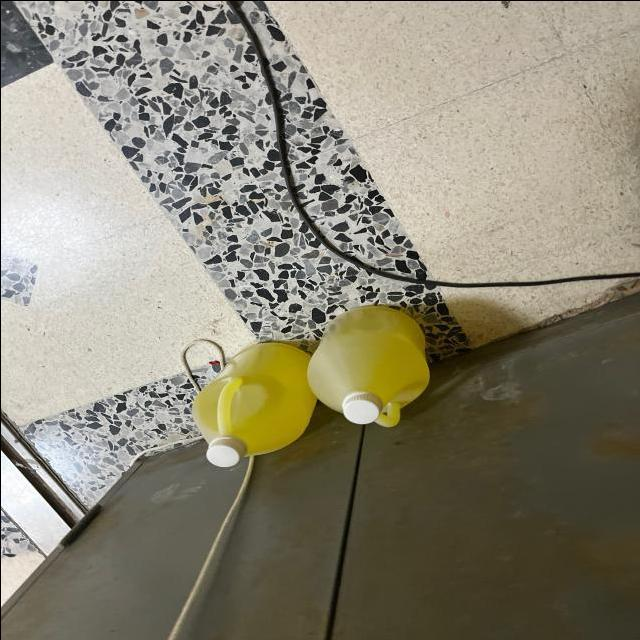HDPE Plastic: (188, 348, 320, 467), (306, 305, 433, 428)
